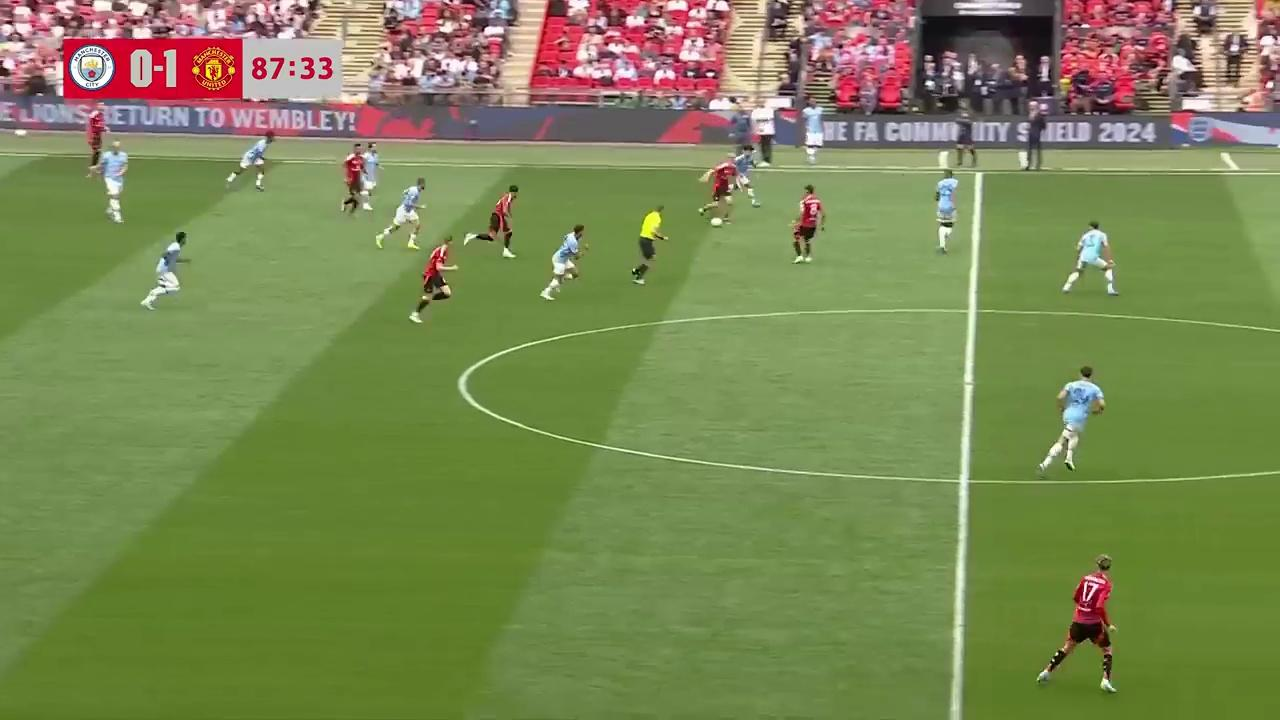ball: (707, 213, 724, 230)
player: (1039, 555, 1118, 697), (1037, 366, 1105, 472), (1061, 220, 1118, 296), (409, 237, 458, 324), (541, 224, 589, 306), (140, 231, 189, 311), (375, 178, 426, 250), (790, 184, 825, 263), (484, 185, 518, 258), (229, 135, 273, 190), (99, 140, 128, 223), (699, 160, 735, 225), (934, 168, 958, 254), (730, 155, 760, 208), (358, 152, 384, 212), (340, 150, 363, 216), (84, 110, 105, 177), (359, 145, 382, 201), (804, 100, 824, 163)
referee: (631, 206, 668, 285)
